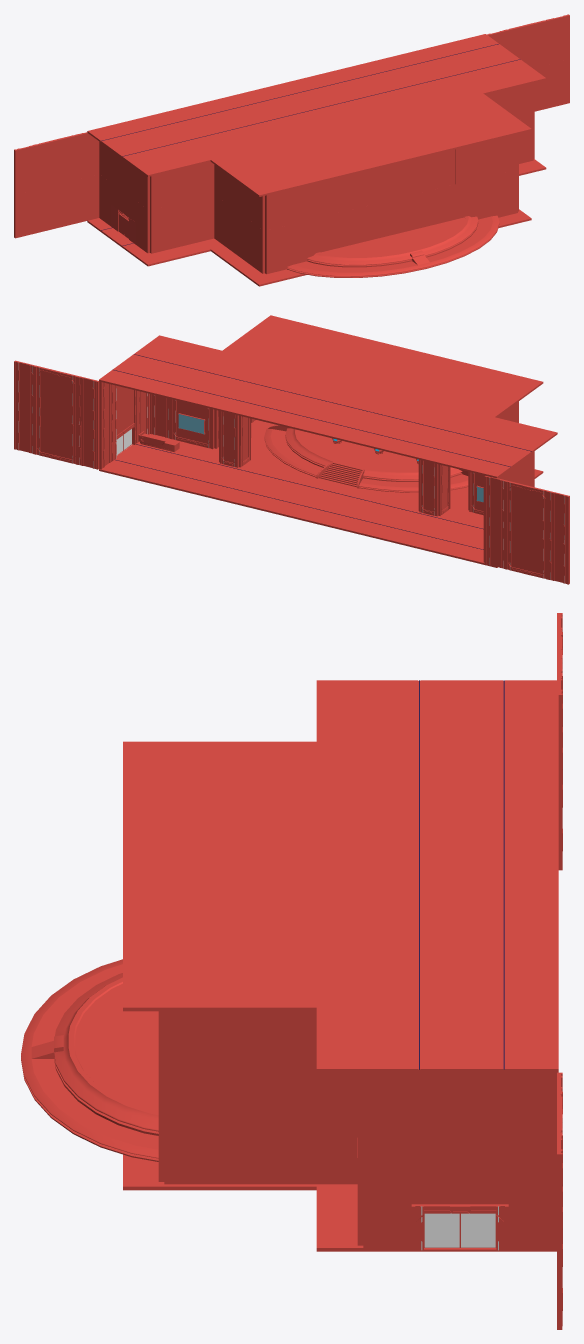
File: Kirova_Exhibit_Hall.fbx
The picture shows the model from 3 angles, top to bottom: view 1: azimuth 30°, elevation 25°; view 2: azimuth 150°, elevation 25°; view 3: azimuth 270°, elevation 25°; orthographic projection. The views are drawn at different scales.
Parts seen in each view (by area): view 1: PBS_Exhibit_Walls, PBS_Floor_Ceilings, Stage; view 2: PBS_Floor_Ceilings, PBS_Exhibit_Walls, Stage, PBS_Column.001, PBS_Column, Front_Stairs, Front_Desk, TV_Screen; view 3: PBS_Floor_Ceilings, PBS_Exhibit_Walls, Stage.
Boxes of the visible parts, x1,y1,x2,y2 form: PBS_Exhibit_Walls: (14, 14, 569, 274); PBS_Floor_Ceilings: (87, 34, 546, 286); Stage: (287, 215, 499, 277); PBS_Floor_Ceilings: (99, 315, 557, 567); PBS_Exhibit_Walls: (14, 360, 569, 584); Stage: (264, 428, 468, 492); PBS_Column.001: (418, 459, 450, 516); PBS_Column: (219, 411, 251, 467); Front_Stairs: (316, 462, 364, 488); Front_Desk: (138, 431, 179, 452); TV_Screen: (178, 413, 205, 434); PBS_Floor_Ceilings: (123, 680, 558, 1251); PBS_Exhibit_Walls: (158, 613, 562, 1329); Stage: (21, 959, 158, 1161).
Size of the model in its own units: 5292 by 832 by 2240.
